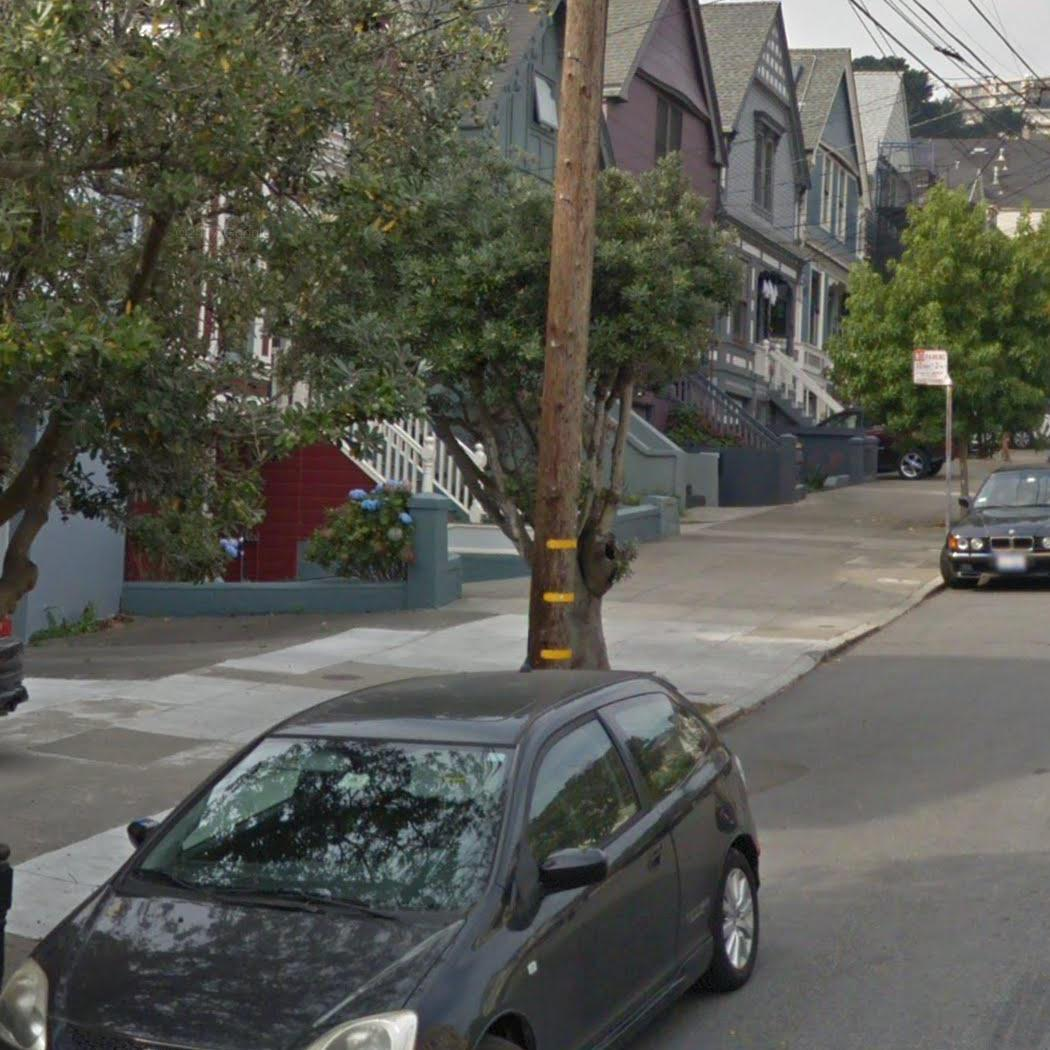No Parking: (910, 344, 949, 385)
